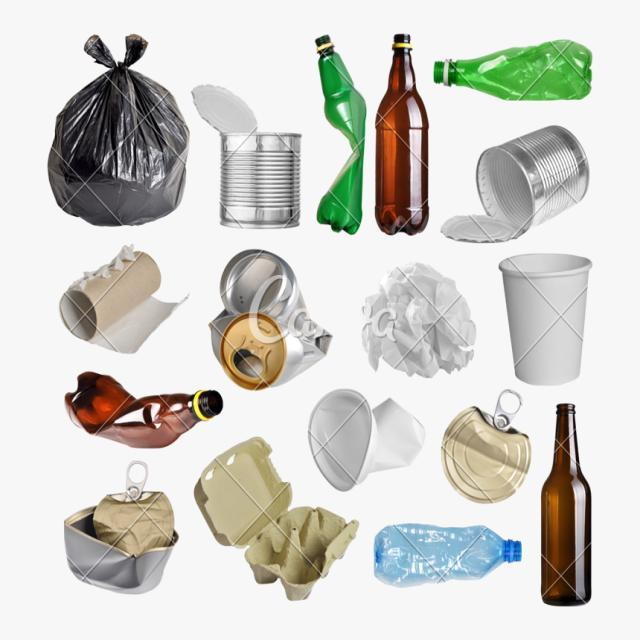Paper: (356, 261, 479, 385)
Plastic: (65, 372, 224, 448), (375, 34, 429, 237), (316, 35, 367, 237), (432, 40, 592, 101), (373, 523, 522, 588)
